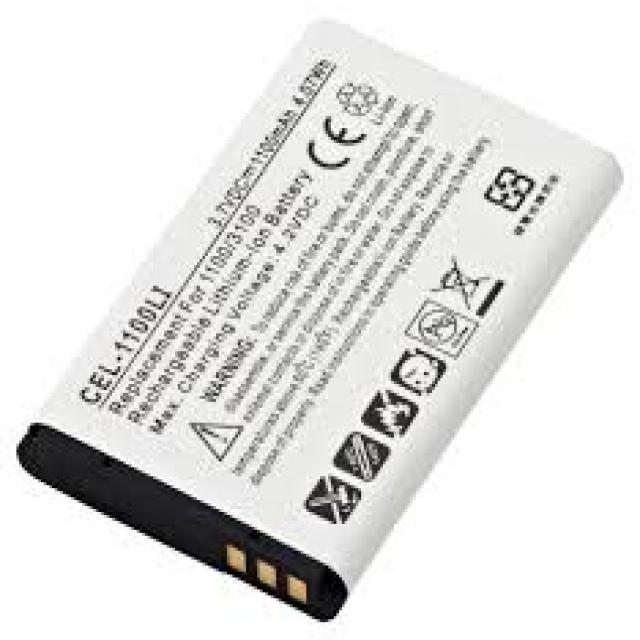non-organic waste: (15, 20, 625, 619)
